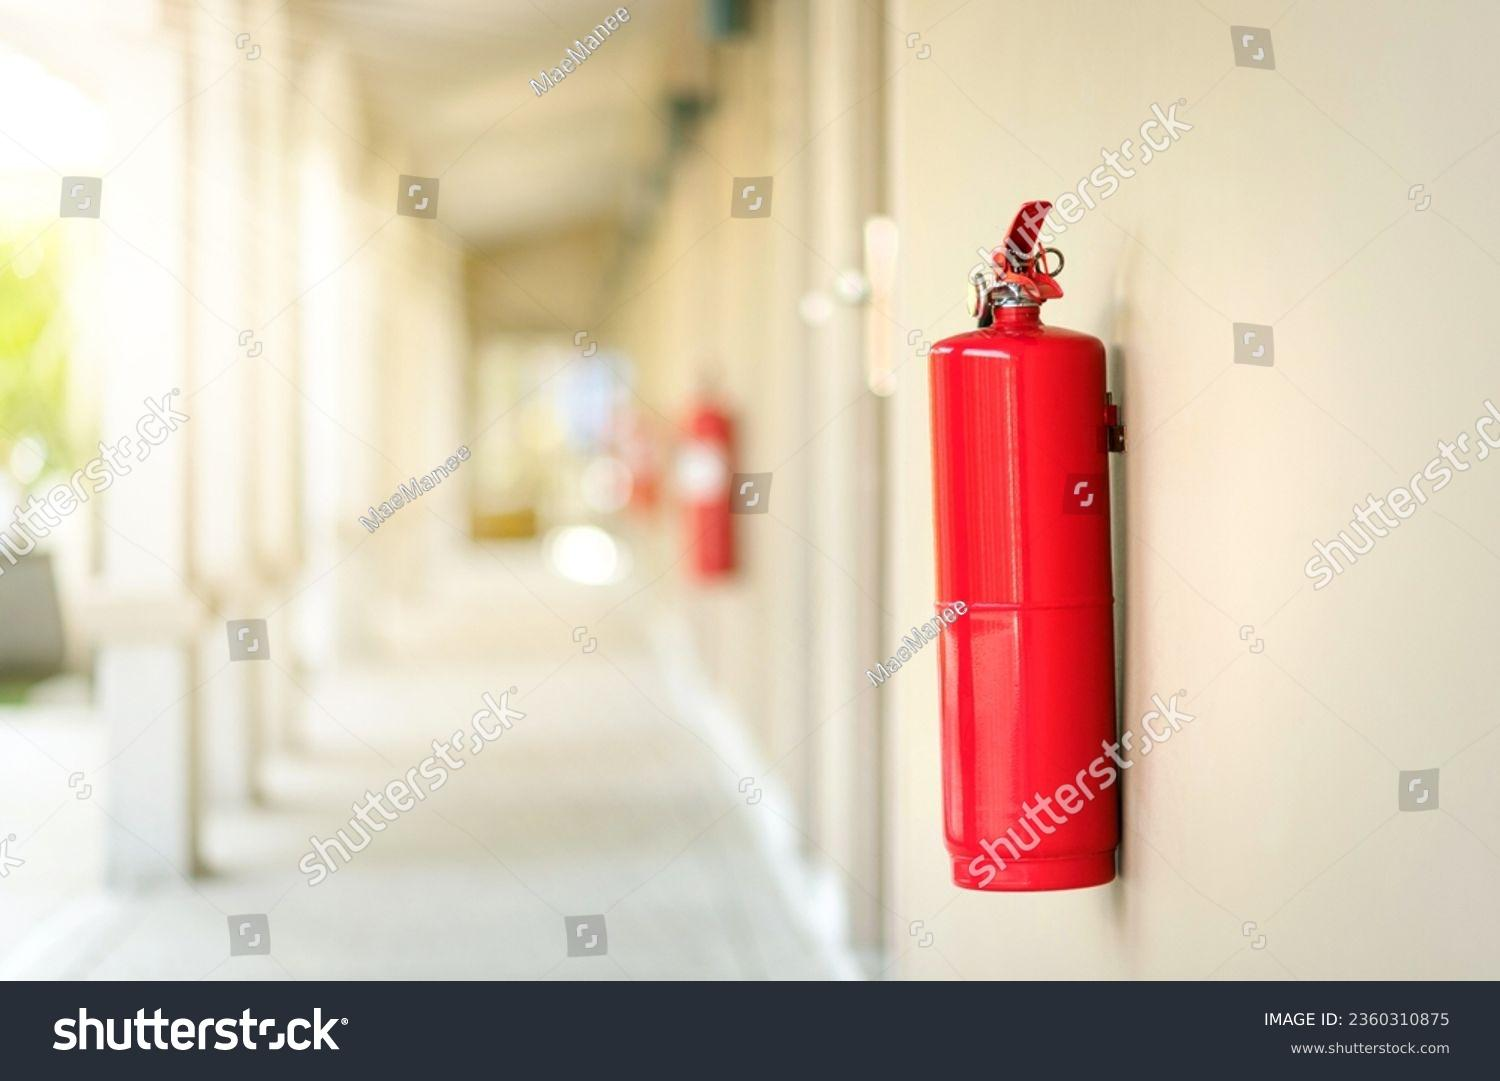wall-mounted: (892, 193, 1182, 898)
